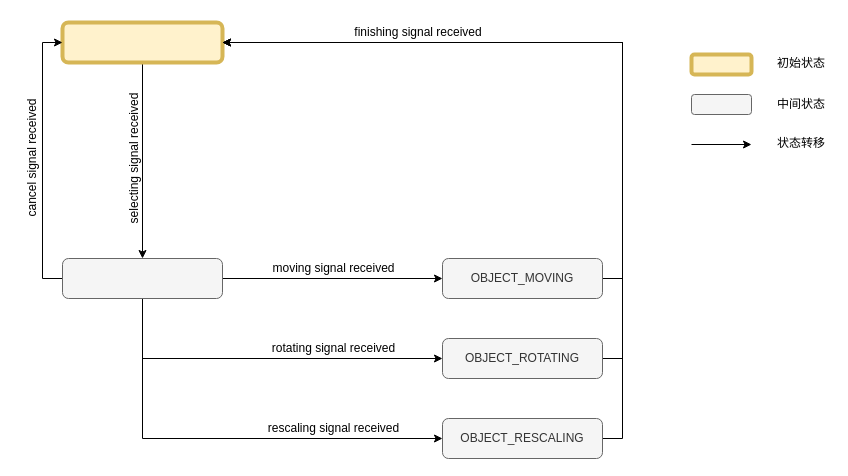
The diagram is 848 pixels wide and 476 high, and some of its shapes have lost their labels. The centre of each missing label's shape, as x and y in pixels:
IDLE: [142,42]
OBJECT_SELECTED: [142,278]
